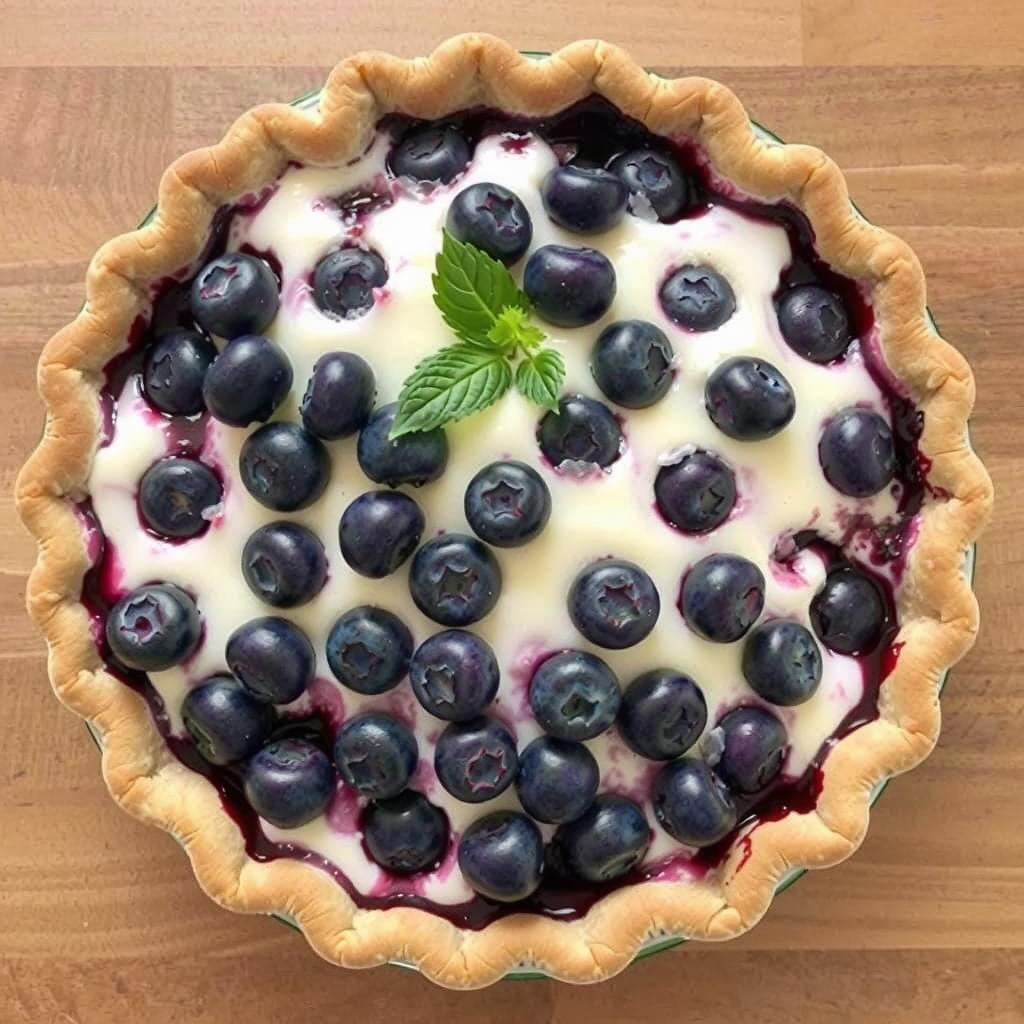pie: (11, 30, 1004, 997)
